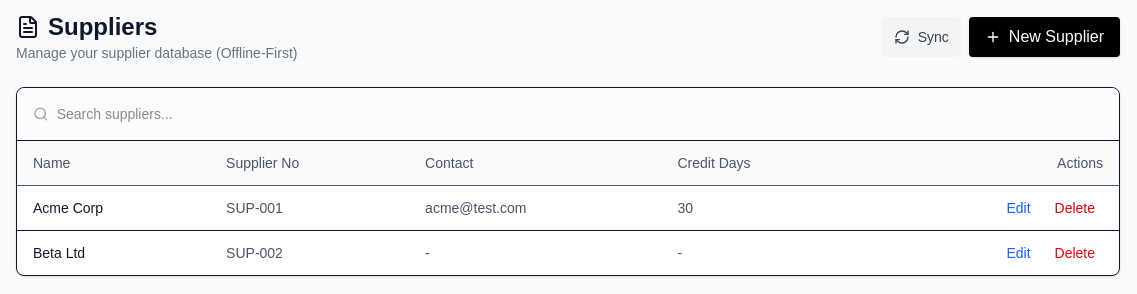
it: SuppliersPage › filters suppliers by search term
This screenshot has width=1137, height=294.
Step 1. Type "Acme" into the field with placeholder "Search suppliers..." → (580, 114), box [57,104,1103,124]
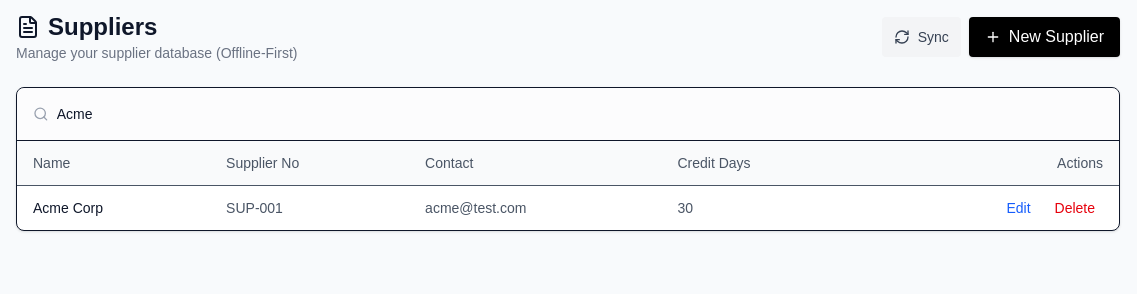
Expected: the text "Acme Corp" is shown, [17,186,210,230]
Expected: the text "Beta Ltd" is gone
